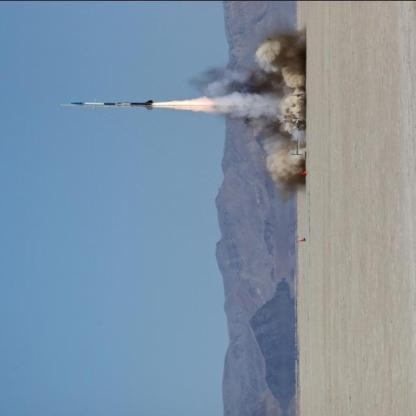MIL_TBM: (59, 96, 158, 113)
